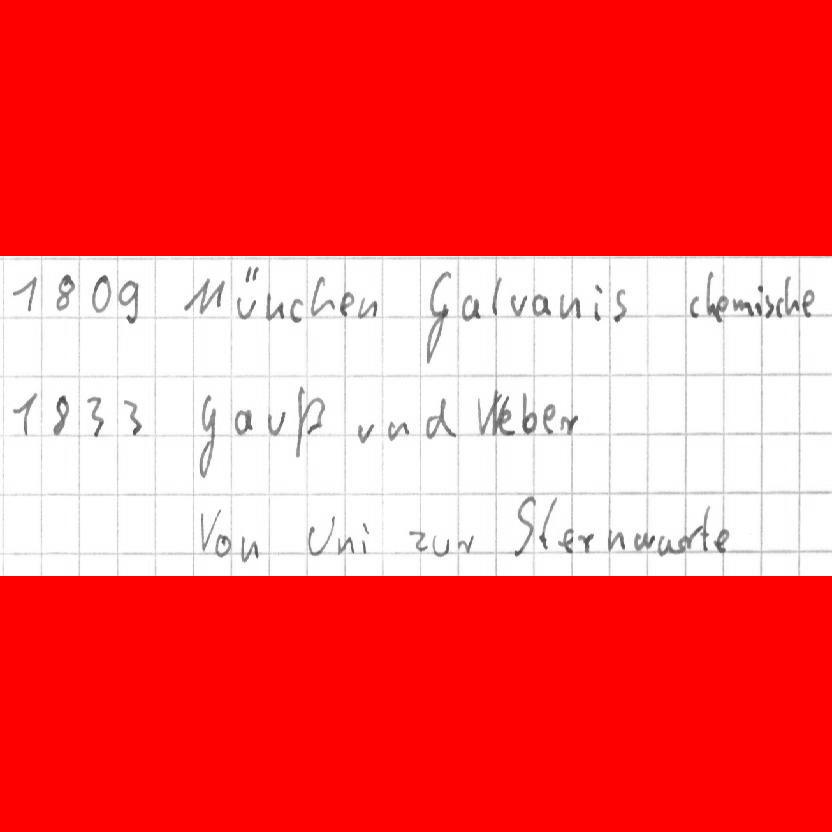Char: (423, 271, 453, 361), (294, 389, 323, 465), (194, 395, 219, 479), (181, 273, 226, 316), (425, 395, 457, 441), (512, 493, 535, 557), (234, 263, 259, 319), (10, 390, 39, 437), (476, 389, 503, 436), (9, 275, 38, 315), (117, 278, 141, 325), (538, 495, 557, 552), (685, 509, 709, 553), (310, 275, 334, 317), (332, 514, 354, 557), (519, 388, 539, 435), (89, 275, 112, 314), (50, 391, 69, 437), (122, 398, 144, 437), (54, 272, 75, 312), (85, 394, 103, 440), (197, 509, 215, 554), (306, 521, 328, 557), (783, 273, 799, 315), (610, 287, 628, 324), (704, 271, 718, 318), (558, 293, 581, 321), (267, 407, 289, 436), (238, 533, 260, 562), (589, 281, 604, 322), (386, 416, 410, 441), (657, 532, 679, 558), (461, 293, 482, 320), (408, 527, 429, 554), (264, 293, 284, 321), (496, 407, 515, 436), (354, 420, 375, 446), (232, 408, 252, 435), (489, 278, 504, 314), (559, 525, 577, 554), (606, 528, 628, 551), (731, 297, 755, 318), (357, 296, 378, 320), (560, 410, 580, 435), (532, 292, 550, 319), (632, 529, 653, 552), (542, 404, 557, 436), (288, 296, 305, 323), (713, 526, 730, 553), (359, 519, 372, 554), (801, 288, 817, 316), (713, 294, 730, 320), (577, 530, 596, 553), (431, 536, 452, 556), (339, 292, 355, 318), (687, 294, 704, 318), (754, 284, 766, 318), (456, 534, 475, 555), (215, 535, 233, 557), (509, 293, 526, 316), (774, 295, 785, 318), (764, 294, 774, 319), (677, 533, 688, 554)
